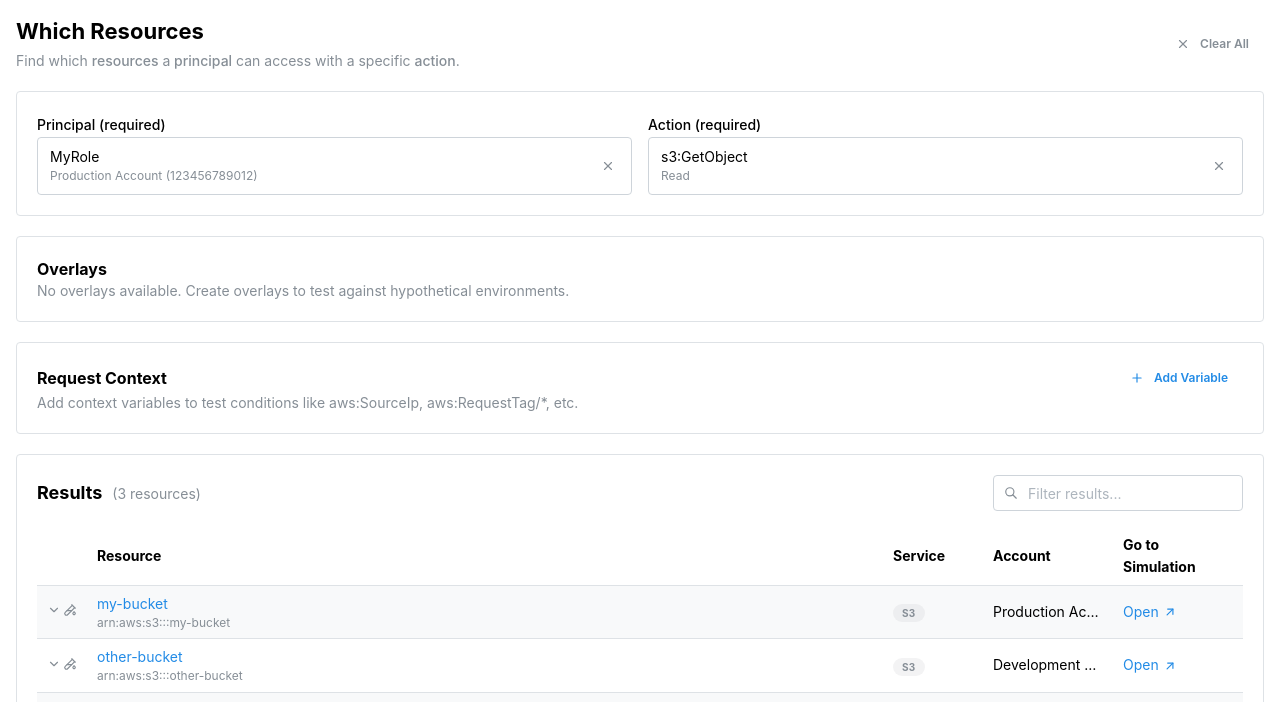
Test: WhichResourcesPage › filters results when using search input
Expected: the heading "Results(3 resources)" is shown, [37, 480, 201, 506]
Expected: the text "(3 resources)" is shown, [112, 485, 201, 502]
Type "my-bucket" into the field with placeholder "Filter results..." at (1118, 494), box [993, 476, 1243, 512]
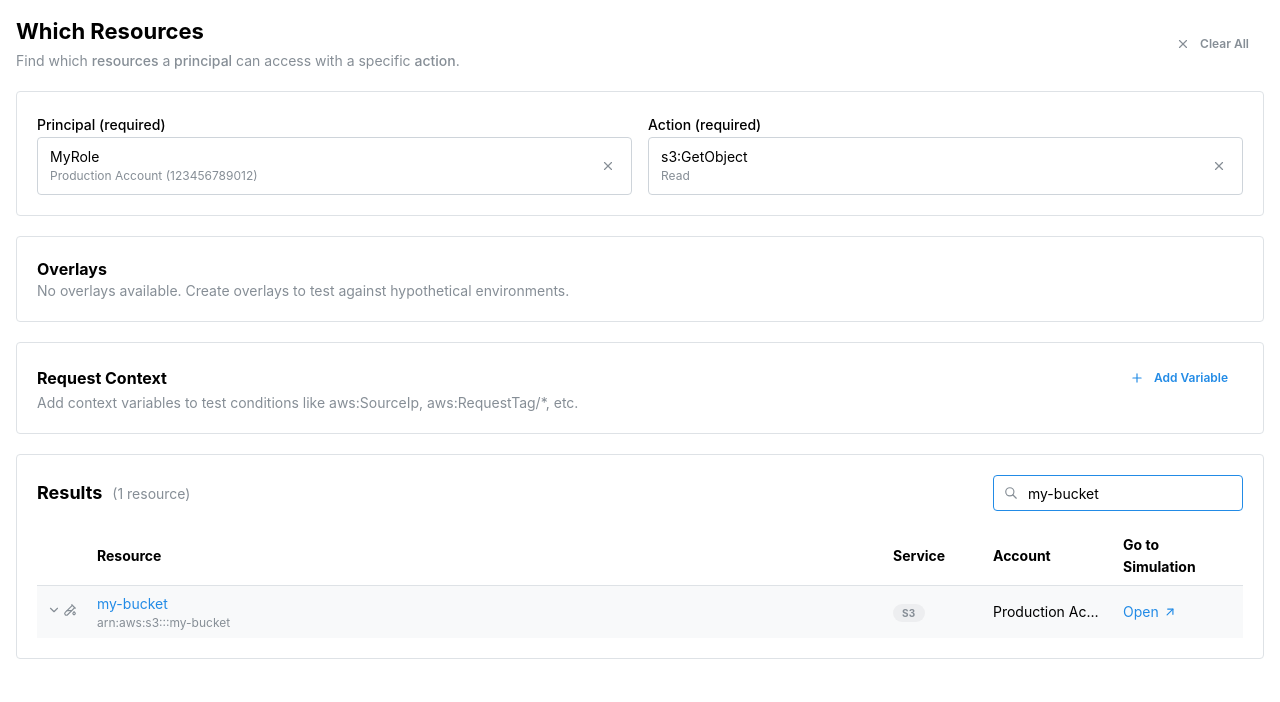
Expected: the link "my-bucket" is shown, [97, 595, 168, 612]
Result: the text "(1 resource)" is shown at [112, 485, 190, 502]
Result: the link "other-bucket" is gone
